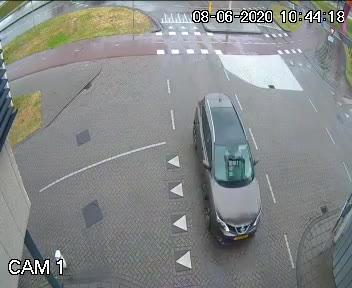car: (180, 87, 282, 276)
